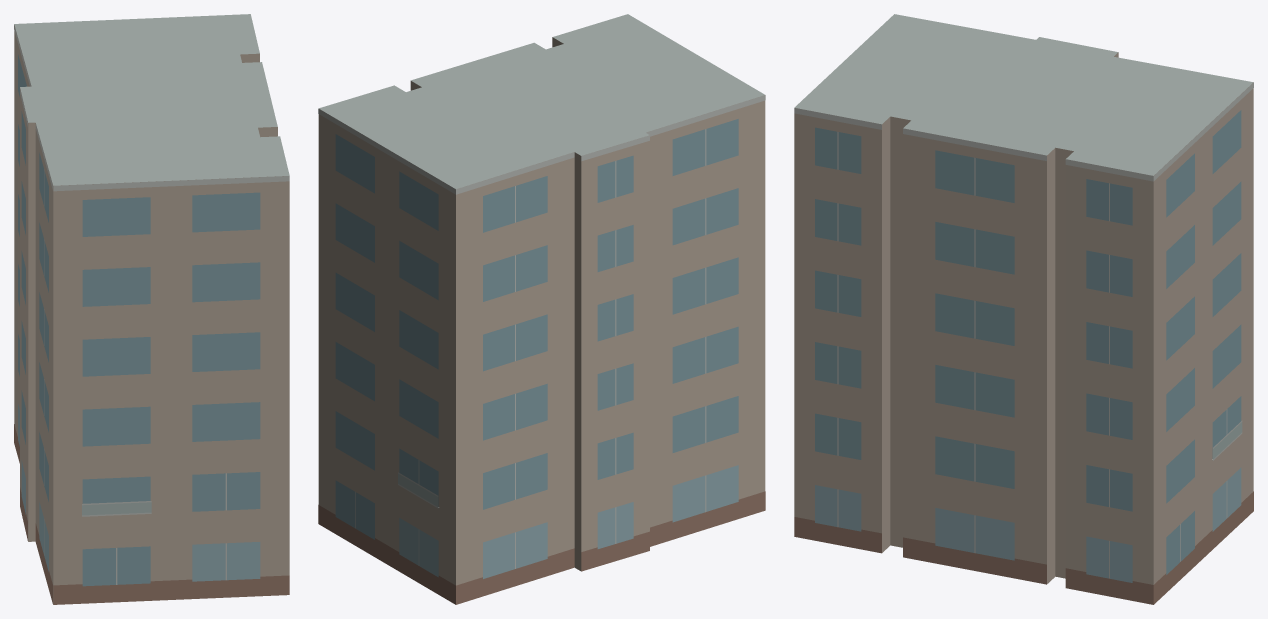
Rendered from survey-upis-33015700.glb.
3 views of the same model, side by side, from view 1: azimuth 30°, elevation 25°; view 2: azimuth 150°, elevation 25°; view 3: azimuth 270°, elevation 25° (orthographic). The views are drawn at different scales.
Parts seen in each view (by area): view 1: survey-upis-33015700.tmp; view 2: survey-upis-33015700.tmp; view 3: survey-upis-33015700.tmp.
Part boxes in pixels (left/top/right/bottom): survey-upis-33015700.tmp: left=14, top=14, right=289, bottom=604; survey-upis-33015700.tmp: left=318, top=14, right=765, bottom=604; survey-upis-33015700.tmp: left=794, top=14, right=1253, bottom=604.
Size of the model in its own units: 14.98 by 18.5 by 17.97.
